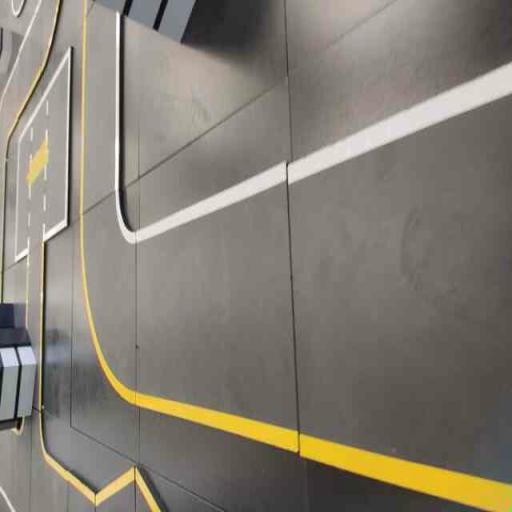straight: (135, 56, 511, 511)
